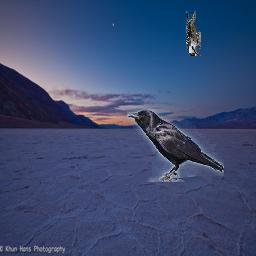Crow: (128, 110, 225, 183)
Woodpecker: (187, 10, 202, 56)
